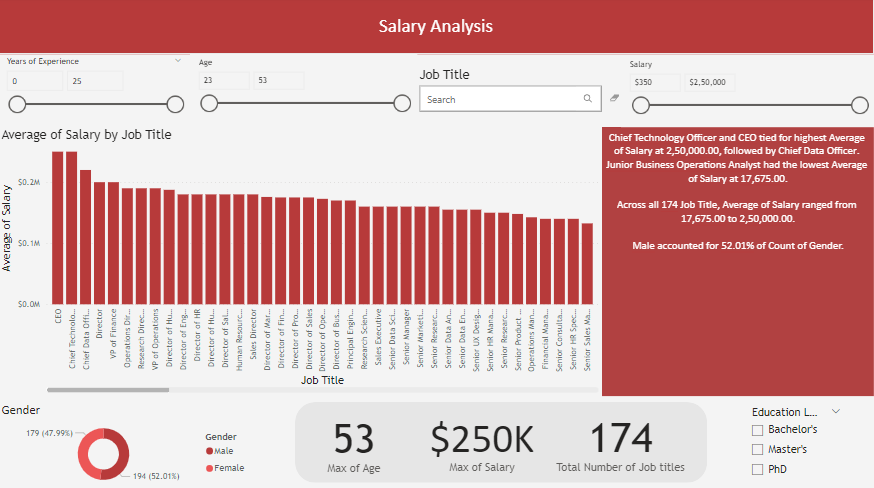

This screenshot's page, from the dashboard's own definition file:
{"tool":"powerbi","page":{"name":"Page 1","canvas":[1280,720],"ordinal":0},"visuals":[{"type":"shape","box":[433.8,591.5,601.7,118.3],"z":0},{"type":"donutChart","title":" Gender ","fields":{"Category":["Salary Data.Gender"],"Y":["CountNonNull(Salary Data.Gender)"]},"box":[0,591.5,373.9,128.5],"z":1000},{"type":"slicer","fields":{"Values":["Salary Data.Education Level"]},"box":[1088,591.5,154.8,119.8],"z":2000},{"type":"slicer","fields":{"Values":["Salary Data.Years of Experience"]},"box":[0,81.8,280.4,108.1],"z":3000},{"type":"clusteredColumnChart","fields":{"Category":["Salary Data.Job Title"],"Y":["Avg(Salary Data.Salary)"]},"box":[0,189.9,882.1,392.9],"z":4000},{"type":"shape","box":[0,1.5,1279.4,81.8],"z":5000},{"type":"card","fields":{"Values":["Count(Salary Data.Job Title)"]},"box":[804.7,579.8,208.8,137.3],"z":6000},{"type":"slicer","fields":{"Values":["Salary Data.Age"]},"box":[280.4,83.2,331.5,106.6],"z":7000},{"type":"card","fields":{"Values":["Max(Salary Data.Salary)"]},"box":[592.9,579.8,227.8,137.3],"z":8000},{"type":"card","fields":{"Values":["Max(Salary Data.Age)"]},"box":[429.4,581.3,181.1,137.3],"z":9000},{"type":"textFilter25A4896A83E0487089E2B90C9AE57C8A","fields":{"field":["Salary Data.Job Title"]},"box":[610.5,102.2,314,87.6],"z":10000},{"type":"textbox","box":[882.1,189.9,397.2,392.9],"z":11000},{"type":"slicer","fields":{"Values":["Salary Data.Salary"]},"box":[909.9,86.2,369.5,103.7],"z":12000}]}

Visuals, with their boxes in screenshot pixels (x1, y1, x2, y2), scaled from the page's 1280x720 canvas onto the 874x488 screenshot:
shape: (x1=296, y1=401, x2=707, y2=481)
" Gender " donutChart: (x1=0, y1=401, x2=255, y2=487)
slicer - Salary Data.Education Level: (x1=743, y1=401, x2=849, y2=482)
slicer - Salary Data.Years of Experience: (x1=0, y1=55, x2=191, y2=129)
clusteredColumnChart - Salary Data.Job Title x Avg(Salary Data.Salary): (x1=0, y1=129, x2=602, y2=395)
shape: (x1=0, y1=1, x2=873, y2=56)
card - Count(Salary Data.Job Title): (x1=549, y1=393, x2=692, y2=486)
slicer - Salary Data.Age: (x1=191, y1=56, x2=418, y2=129)
card - Max(Salary Data.Salary): (x1=405, y1=393, x2=560, y2=486)
card - Max(Salary Data.Age): (x1=293, y1=394, x2=417, y2=487)
textFilter25A4896A83E0487089E2B90C9AE57C8A - Salary Data.Job Title: (x1=417, y1=69, x2=631, y2=129)
textbox: (x1=602, y1=129, x2=873, y2=395)
slicer - Salary Data.Salary: (x1=621, y1=58, x2=873, y2=129)
